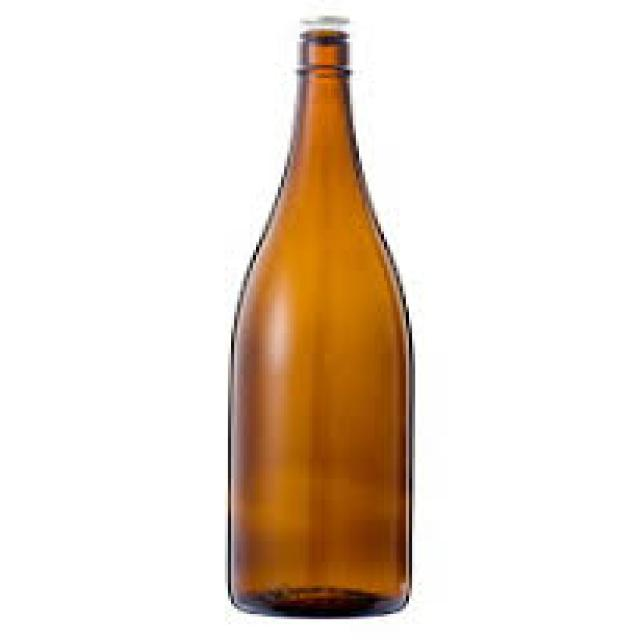glass: (228, 29, 409, 609)
